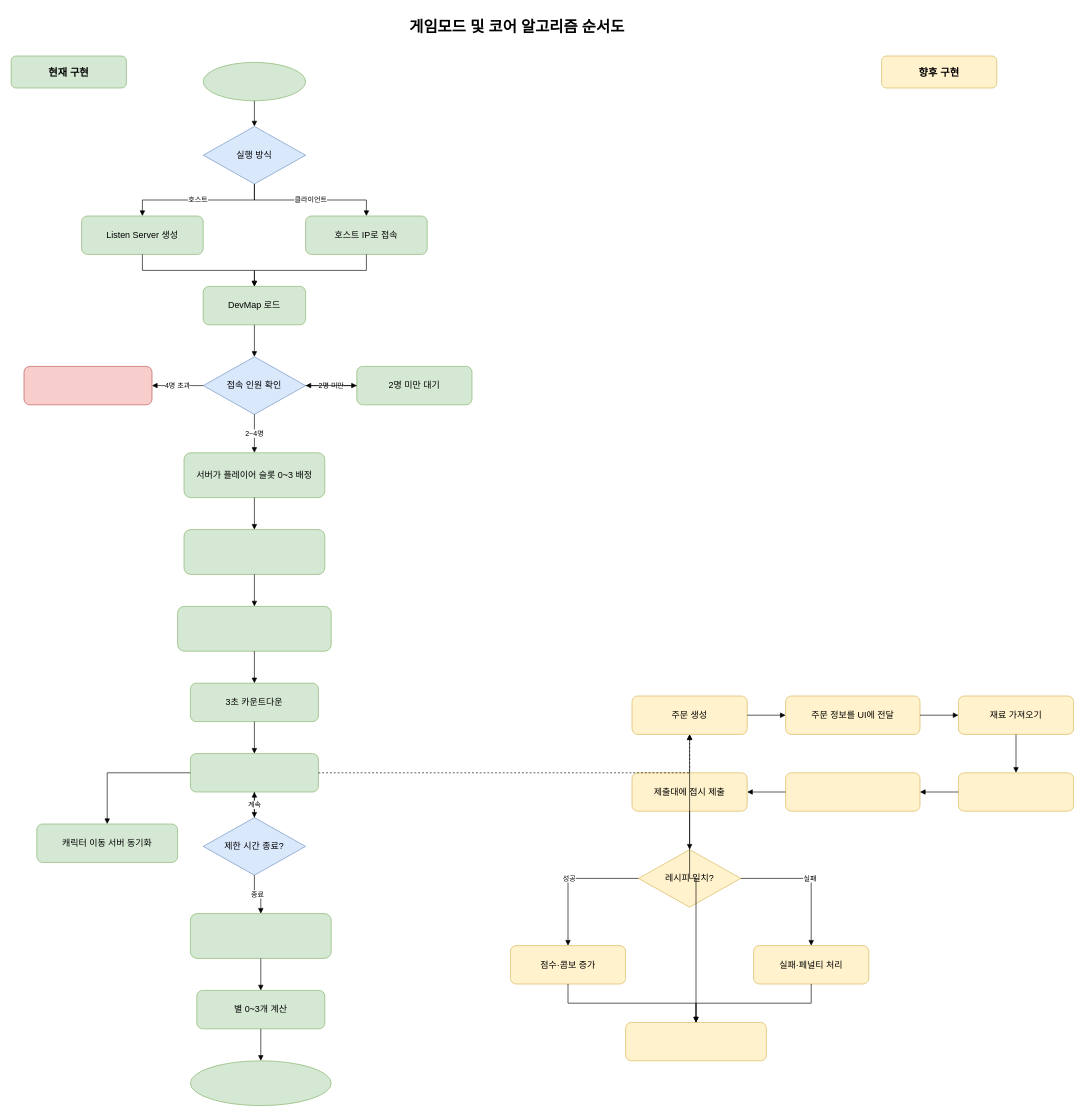
Some shapes in this 1085 by 1117 pixel diagram are drawn without their labels. Here are the shapes that lost their labels. From the top down, the centre of each, then its label:
point 254,81: 게임 실행
point 87,385: 4명 초과 접속 거부
point 254,551: PlayerStart1~4에 캐릭터 생성
point 254,628: 모든 플레이어에게 고정 탑뷰 카메라 적용
point 254,772: 120초 라운드 시작
point 852,791: 접시에 음식 조합
point 1016,791: 썰기·굽기·조리
point 260,935: 라운드 종료 및 최종 점수 계산
point 695,1041: 주문 완료 후 다음 주문
point 260,1083: 결과 동기화 및 UI 표시
